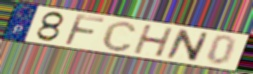0: (206, 35, 238, 67)
8: (36, 11, 66, 42)
C: (100, 20, 138, 53)
F: (62, 13, 107, 47)
H: (133, 24, 176, 58)
N: (164, 28, 211, 64)
